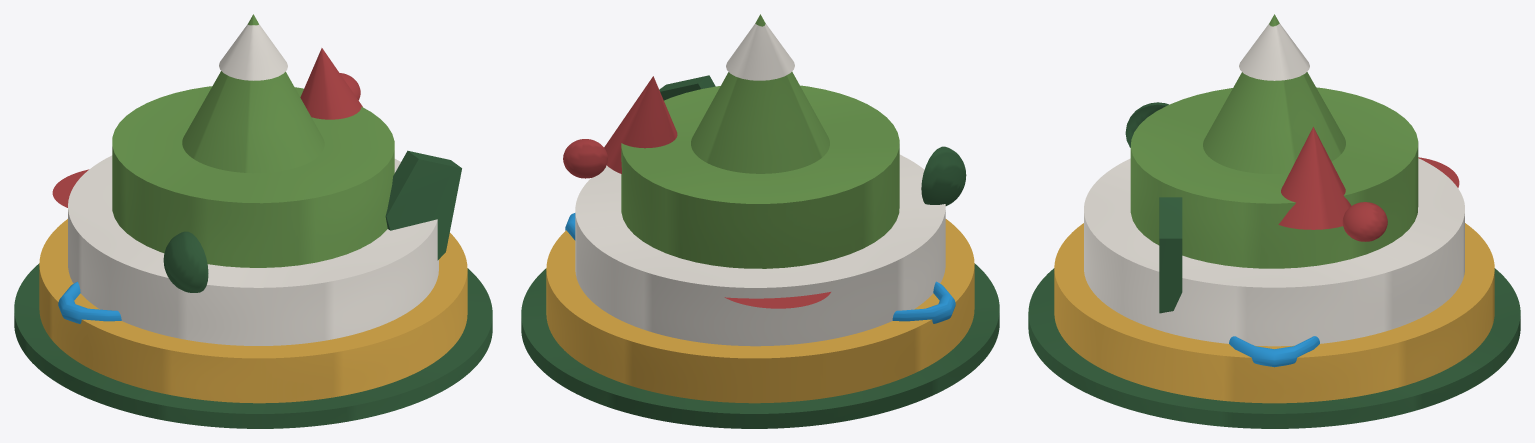
File: 0630_地貌图鉴_黑烟囱.glb
3 renders of one model, left to right at view 1: azimuth 30°, elevation 25°; view 2: azimuth 150°, elevation 25°; view 3: azimuth 270°, elevation 25°, orthographic.
Visible parts, largest first — view 1: card_0630; view 2: card_0630; view 3: card_0630.
Boxes of the visible parts, left/top/right/bottom form: card_0630: left=14, top=14, right=492, bottom=428; card_0630: left=521, top=14, right=999, bottom=428; card_0630: left=1028, top=14, right=1520, bottom=428.
Size of the model in its own units: 1.38 by 1 by 1.42.
